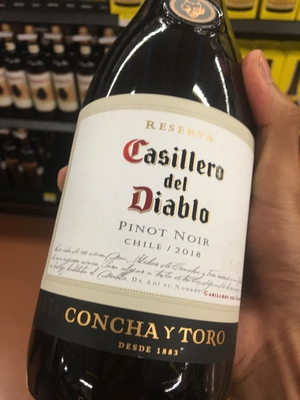casillero del diablo pinot noir: (36, 29, 265, 400)
